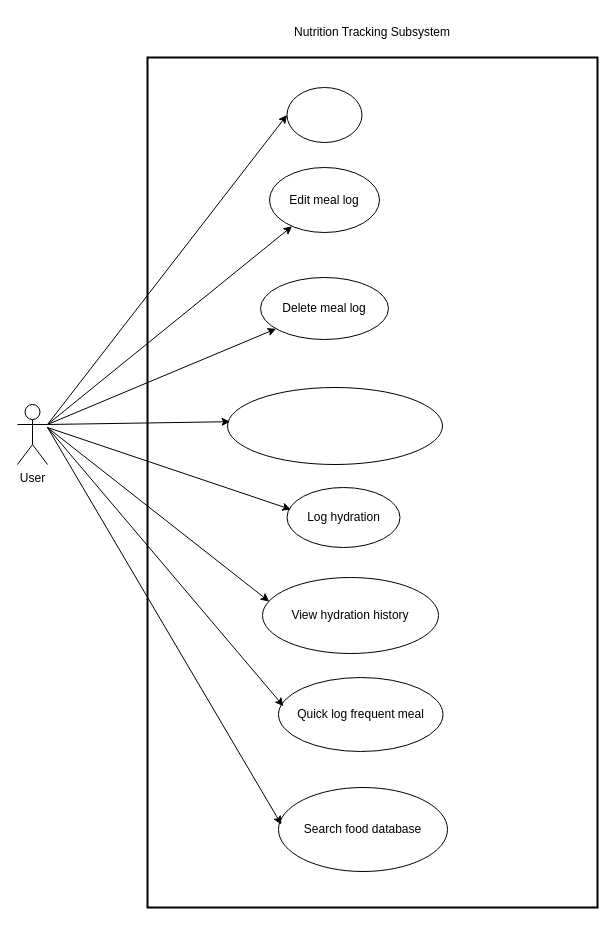
Some shapes in this 616 by 925 pixel diagram are drawn without their labels. Here are the shapes that lost their labels. From the top down, the centre of each, then its label:
(x=324, y=114): Log meal
(x=334, y=425): View daily nutrition summary
